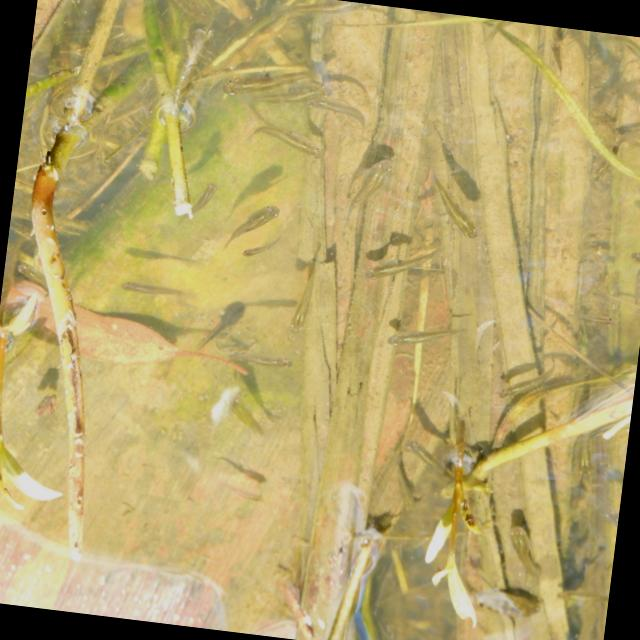Sivrisinek Baligi: (213, 47, 329, 118), (336, 140, 402, 242), (417, 168, 492, 252), (381, 304, 465, 367), (191, 450, 273, 512), (242, 115, 332, 171), (362, 236, 441, 296), (496, 508, 552, 582), (224, 192, 282, 255), (222, 342, 304, 385), (556, 295, 621, 344), (168, 177, 220, 236), (116, 272, 187, 312), (288, 253, 320, 341)
